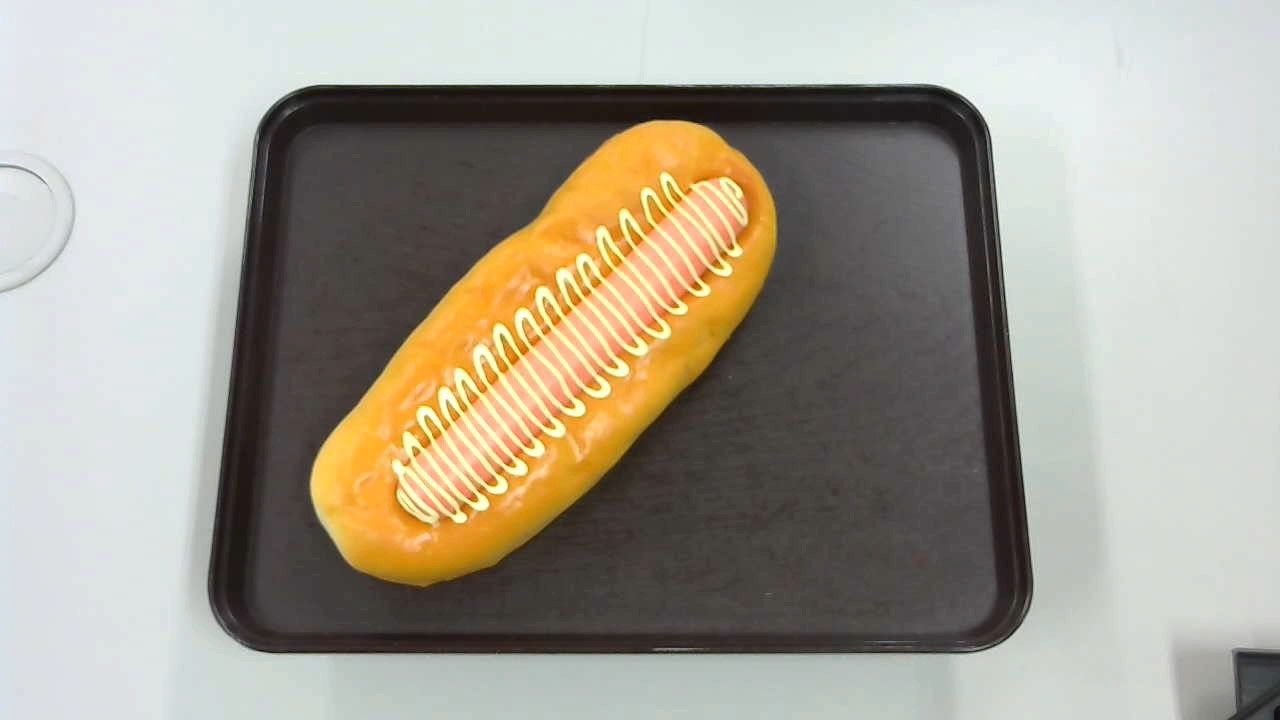hot dog: (309, 120, 777, 589)
